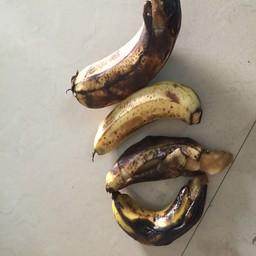Bad_banana: (79, 2, 176, 104), (98, 85, 205, 154), (114, 177, 206, 243), (111, 137, 231, 185)
